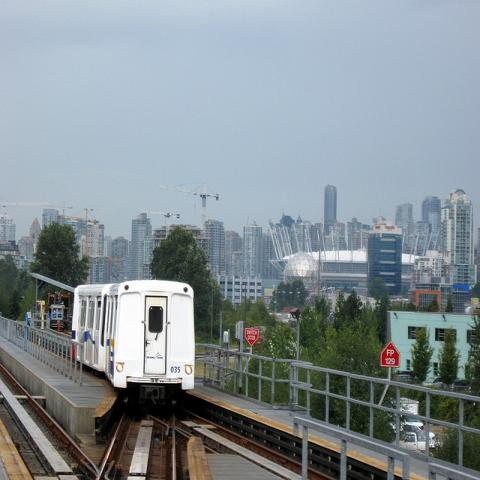truck: (398, 423, 426, 451)
